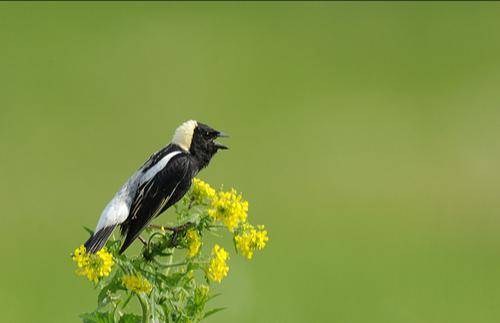bird: (68, 111, 237, 277)
